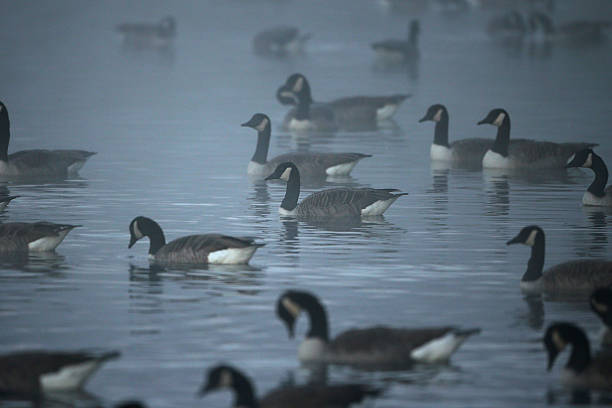goose: (269, 284, 482, 374), (115, 209, 271, 279), (259, 163, 420, 229), (189, 358, 387, 408), (235, 111, 373, 182), (269, 71, 414, 138), (1, 336, 132, 408), (1, 94, 102, 183), (500, 223, 612, 299), (1, 184, 105, 263), (477, 105, 600, 170), (100, 11, 189, 73), (532, 315, 612, 382), (483, 10, 610, 50), (360, 16, 444, 73), (419, 102, 486, 173), (236, 22, 320, 68), (563, 144, 612, 214)
